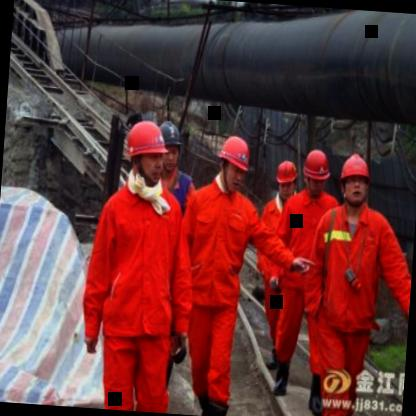helmet: (122, 118, 171, 190), (214, 133, 258, 194), (337, 151, 375, 209), (156, 118, 187, 175), (300, 146, 332, 196), (272, 154, 302, 200)
